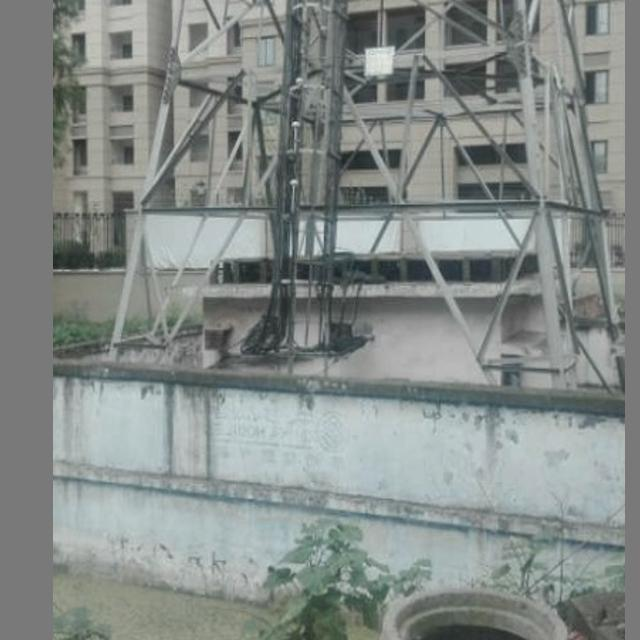lose: (371, 568, 579, 640)
